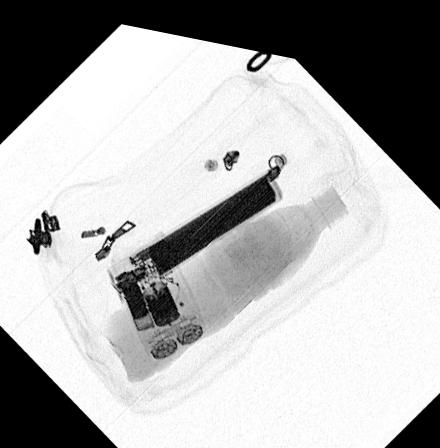Powerbank: (127, 157, 285, 279)
